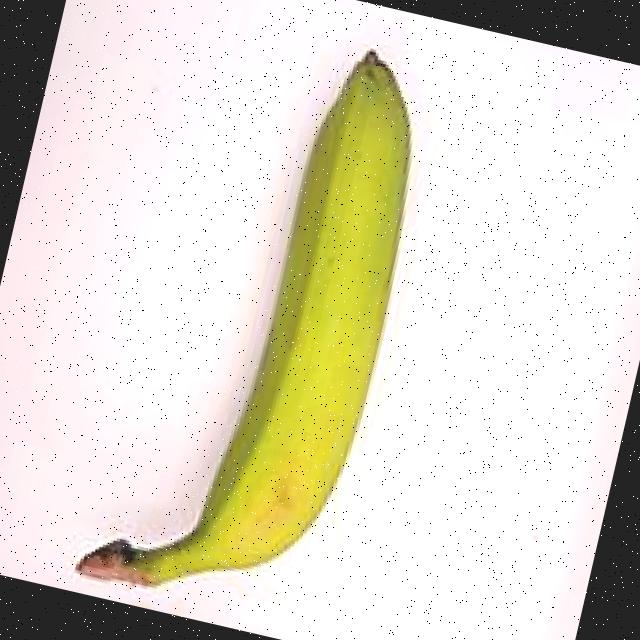Unripe: (41, 0, 484, 640)
